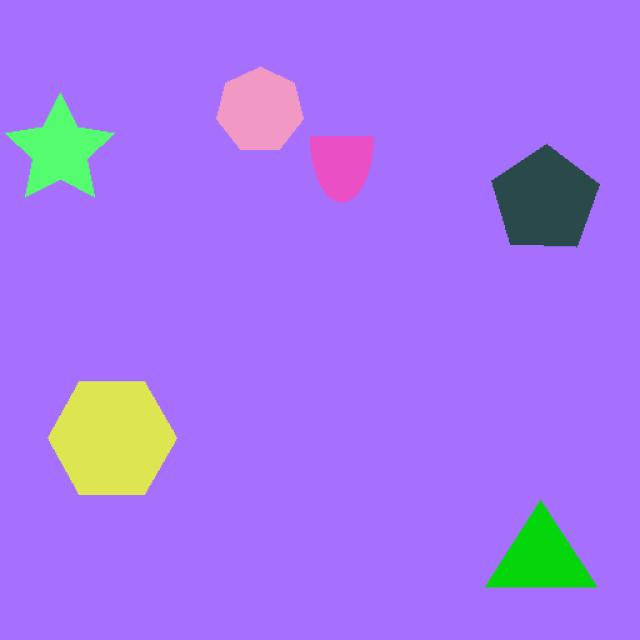Heptagon: (198, 56, 326, 172)
Hexagon: (28, 357, 212, 521)
Pentagon: (483, 116, 635, 284)
Semicircle: (296, 118, 387, 218)
Star: (11, 86, 138, 225)
Triangle: (475, 483, 640, 624)
